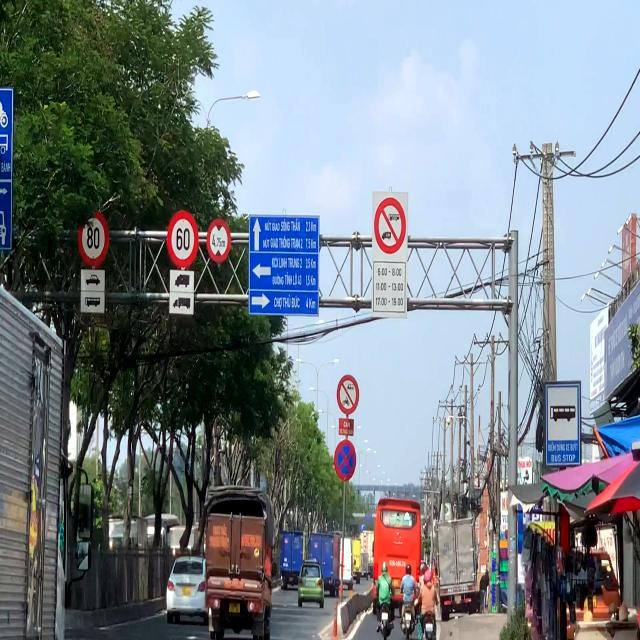P.117: (207, 218, 232, 264)
P.127: (168, 210, 198, 268), (79, 213, 108, 265)
P.130: (334, 436, 359, 482)
